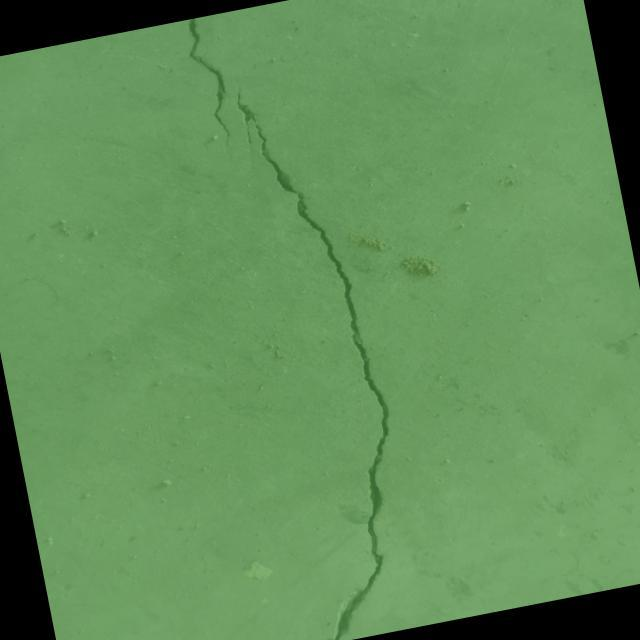crack: (211, 65, 431, 640), (183, 15, 234, 142)
